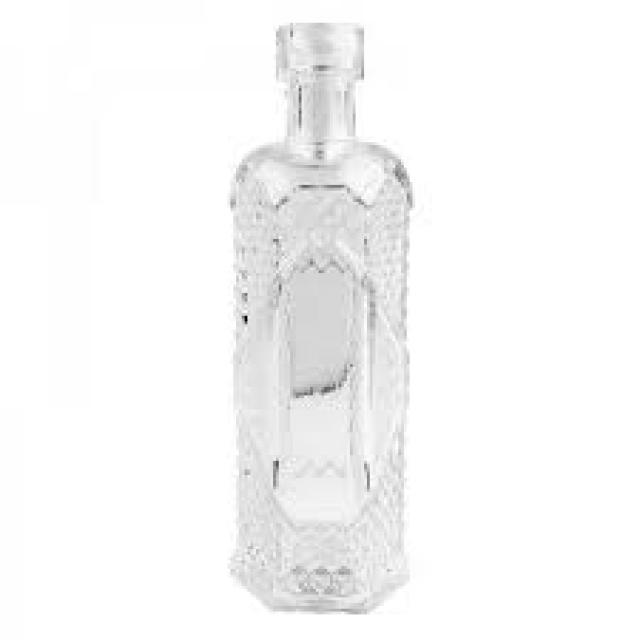Glass: (231, 23, 406, 613)
